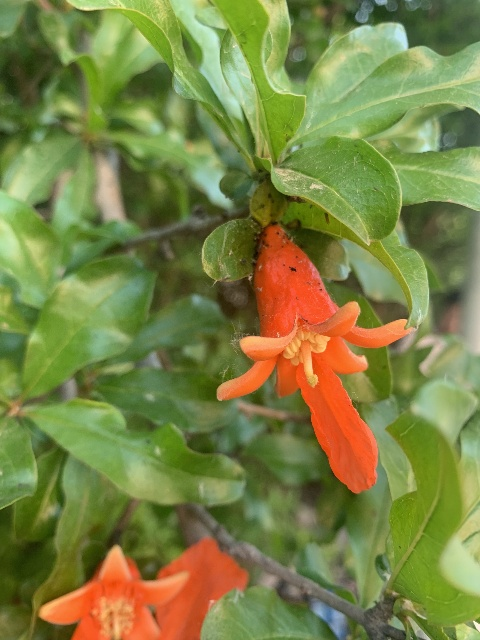flower: (216, 226, 412, 493), (35, 537, 248, 640)
